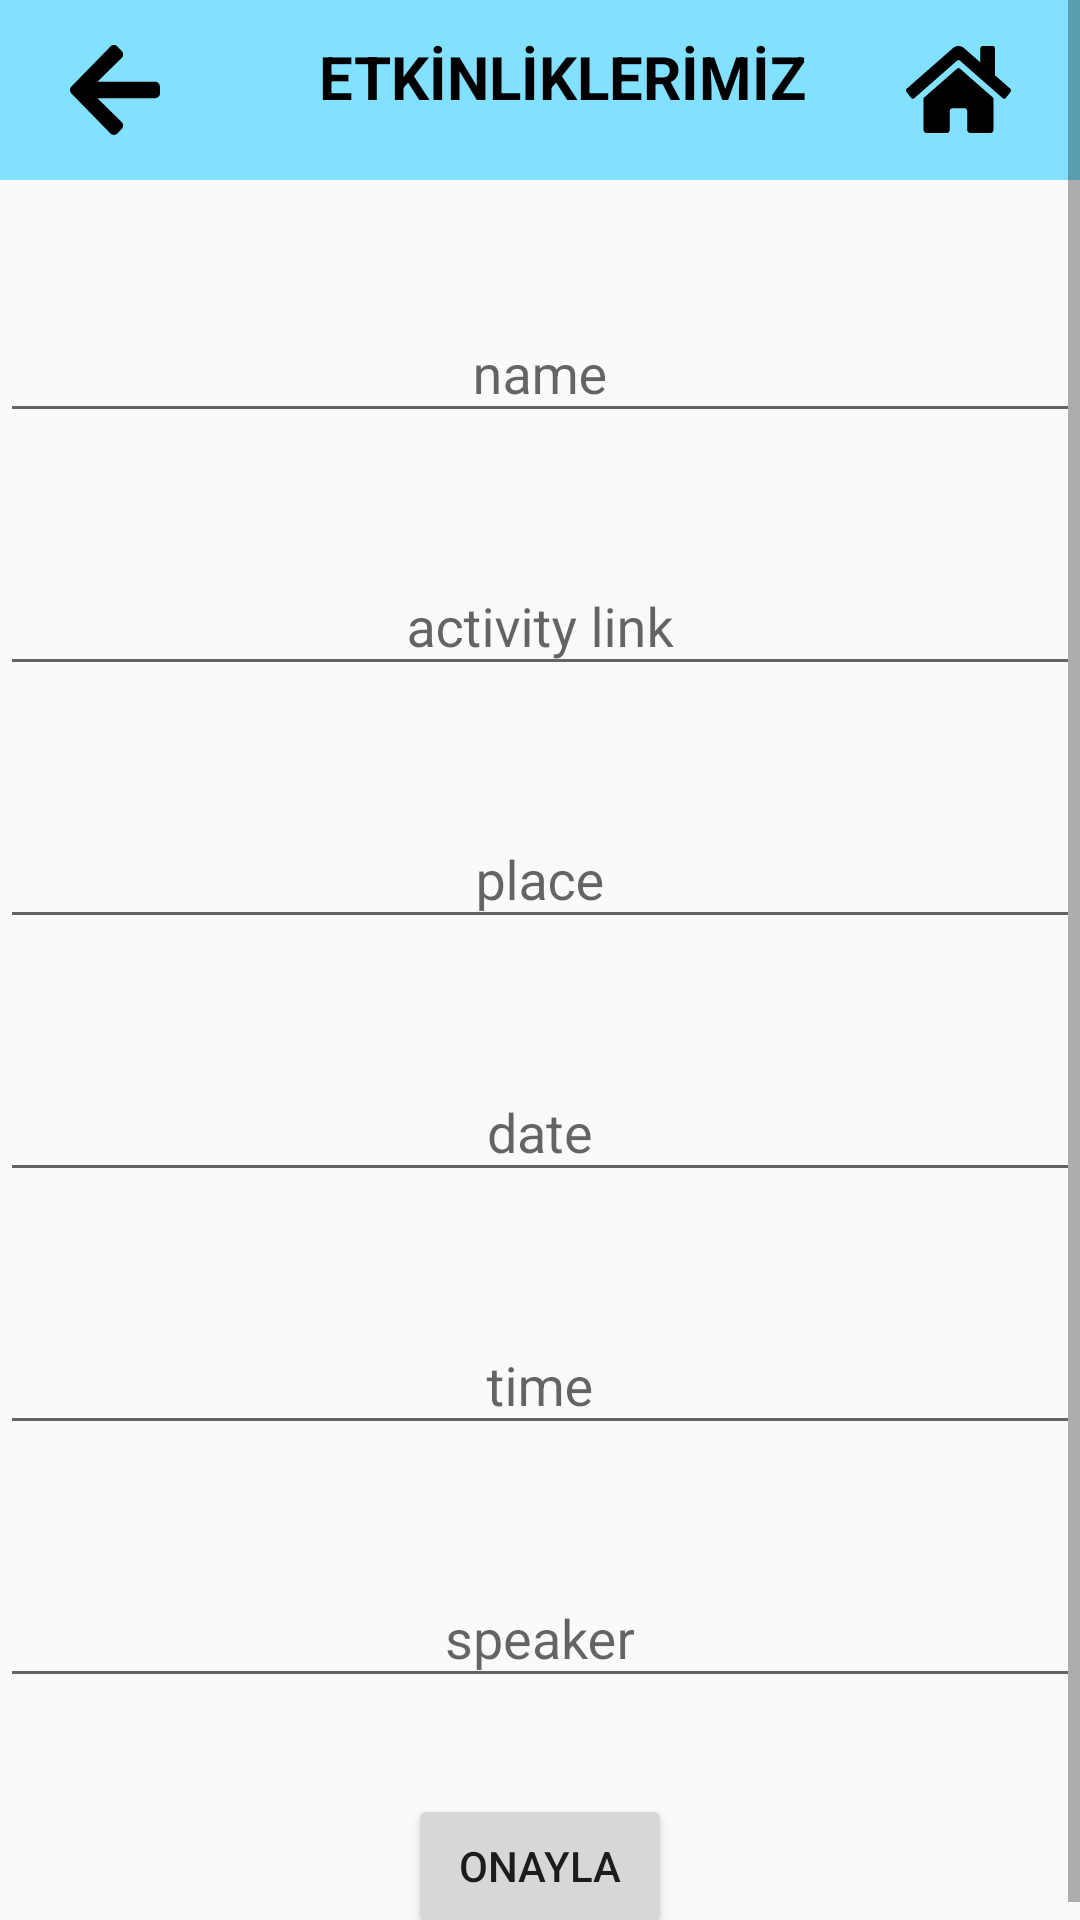

Icons on this 1080w x 1920h Android screen, each with its box as BBox(x1, y1, x2, y2):
back: BBox(70, 45, 160, 135)
home: BBox(906, 46, 1011, 133)
